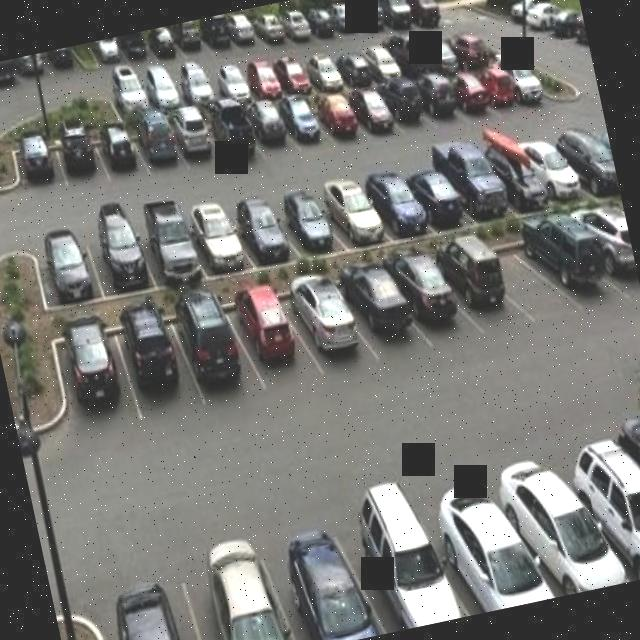car: (494, 432, 638, 604), (421, 476, 554, 620), (348, 496, 470, 636), (558, 406, 640, 589), (266, 519, 389, 640), (165, 286, 272, 422), (274, 263, 381, 387), (214, 276, 318, 400), (175, 540, 303, 640), (107, 303, 206, 432), (511, 202, 618, 318), (47, 311, 139, 442), (426, 225, 526, 338), (336, 250, 430, 367), (388, 237, 476, 350), (438, 129, 524, 233), (80, 198, 154, 306), (31, 208, 104, 316), (91, 577, 216, 640), (568, 192, 640, 300), (485, 127, 559, 227), (404, 147, 476, 246), (522, 116, 592, 215), (137, 195, 206, 294), (363, 156, 436, 248), (320, 168, 394, 257), (278, 172, 348, 266), (188, 190, 256, 283), (238, 184, 306, 276), (556, 114, 622, 208), (609, 390, 640, 577), (205, 96, 268, 172), (130, 106, 186, 186), (50, 112, 106, 191), (91, 112, 148, 188), (170, 98, 222, 180), (11, 127, 66, 200), (498, 33, 550, 110), (276, 84, 328, 160), (378, 65, 432, 137), (311, 81, 363, 153), (472, 44, 520, 120), (444, 54, 493, 128), (413, 62, 462, 133), (347, 78, 395, 146), (384, 24, 440, 80), (248, 90, 292, 159), (102, 70, 157, 124), (298, 42, 348, 97), (140, 63, 188, 117), (449, 15, 496, 70), (268, 44, 314, 99), (240, 52, 287, 104), (362, 30, 407, 84), (421, 21, 464, 77), (208, 59, 256, 107), (176, 57, 220, 107), (335, 38, 378, 88), (248, 1, 288, 52), (193, 12, 236, 58), (301, 0, 345, 44), (220, 7, 262, 53), (347, 0, 391, 42), (324, 0, 366, 43), (276, 0, 315, 46), (142, 23, 184, 65), (168, 18, 208, 61), (372, 0, 417, 37), (534, 14, 584, 46), (520, 4, 570, 36), (85, 35, 128, 72), (114, 29, 156, 66), (10, 56, 51, 88), (42, 46, 80, 80), (407, 0, 446, 33), (497, 1, 538, 26), (554, 30, 588, 54), (0, 58, 19, 92)
free: (482, 219, 576, 328)
